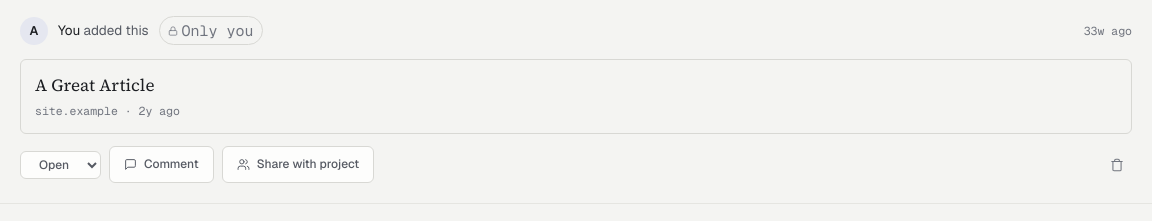
Test: <ProjectPinCard> › cancel backs out of the publish confirm
Step 1. Click the button "Share with project" → (298, 165), box [222, 146, 374, 183]
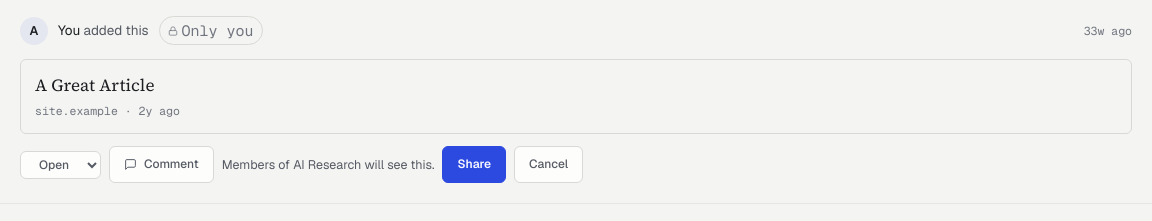
Result: the text "Members of AI Research will see this." is shown at [222, 155, 434, 174]
Step 2. Click the button "Cancel" → (549, 165), box [514, 146, 583, 183]
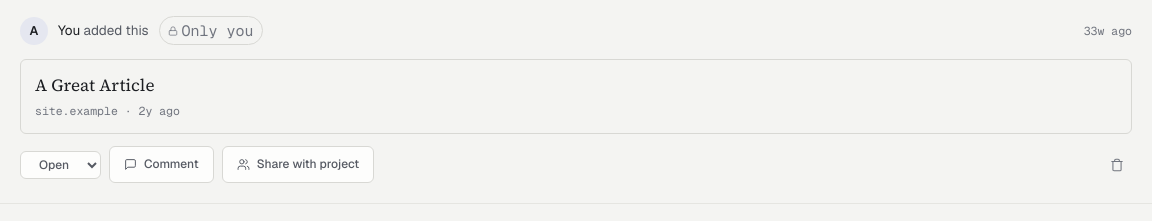
Result: the button "Share with project" is shown at [222, 146, 374, 183]
